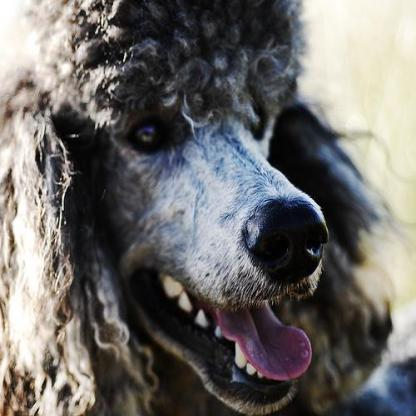standard_poodle: (0, 0, 397, 413)
